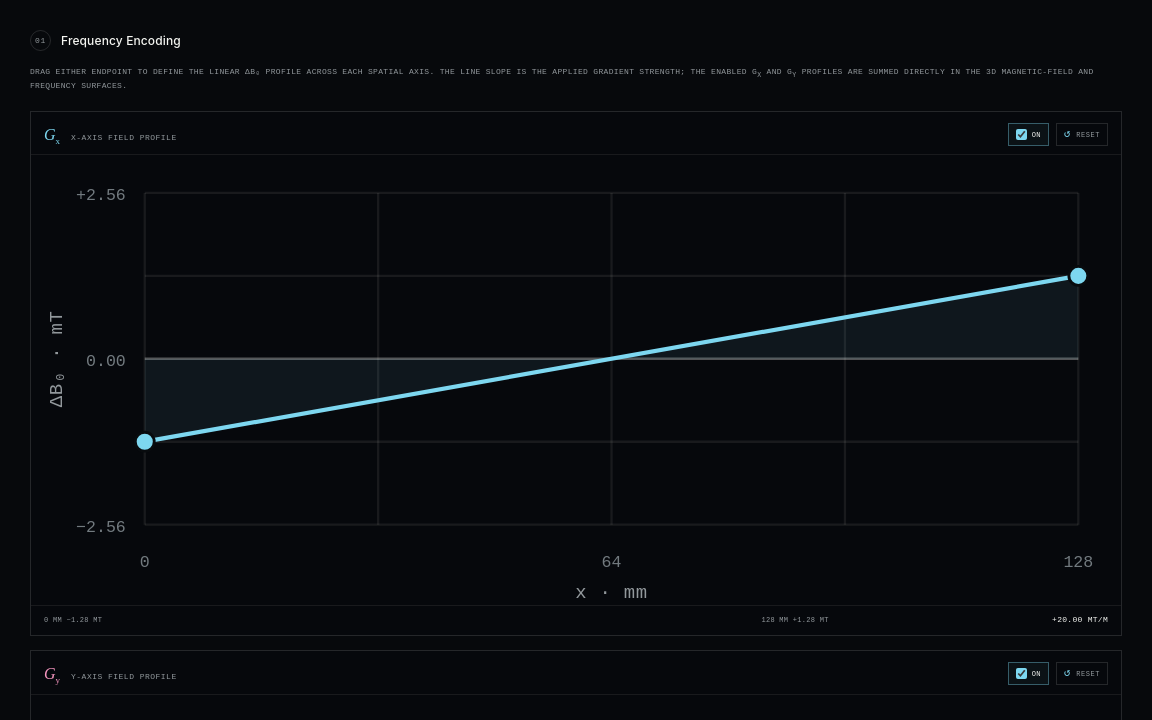
Test: GradientEncodingExperimentPanel › disables an axis contribution without discarding its profile
Click the checkbox named "Enable G x spatial gradient": x=1021, y=135 [1016,129,1027,140]
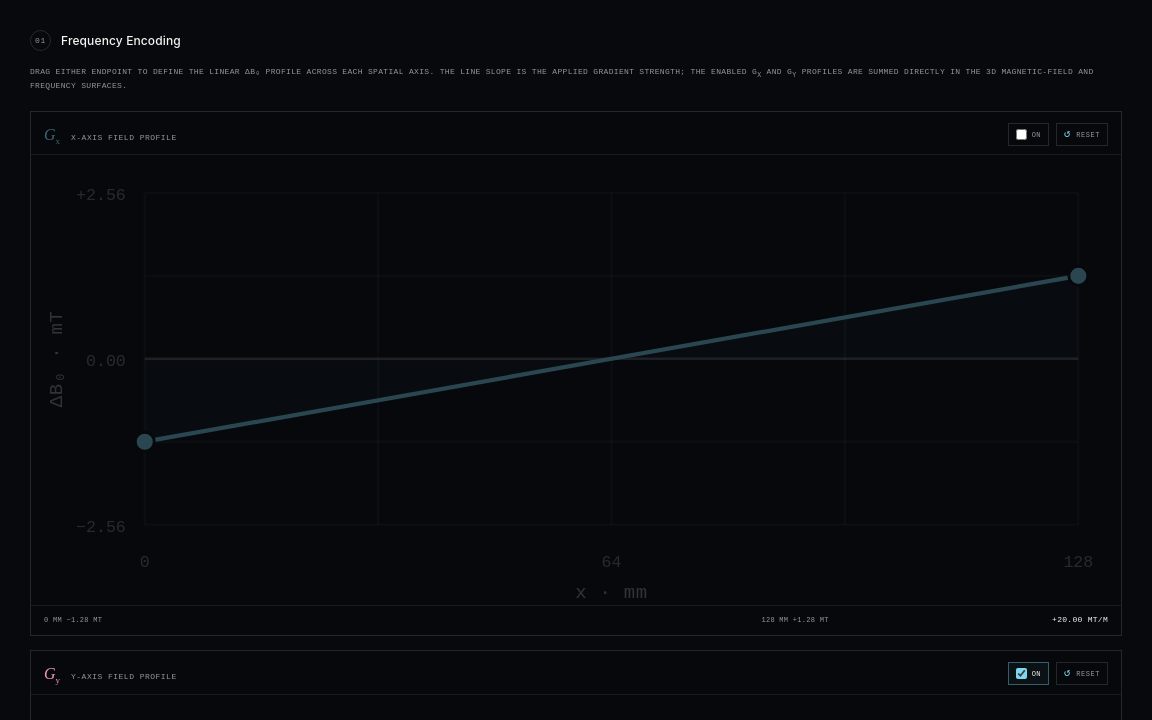
Check: the element named "G x spatial gradient editable line" has class "disabled"
Check: the checkbox named "Enable G x spatial gradient" is not checked
Click the checkbox named "Enable G x spatial gradient": x=1021, y=135 [1016,129,1027,140]
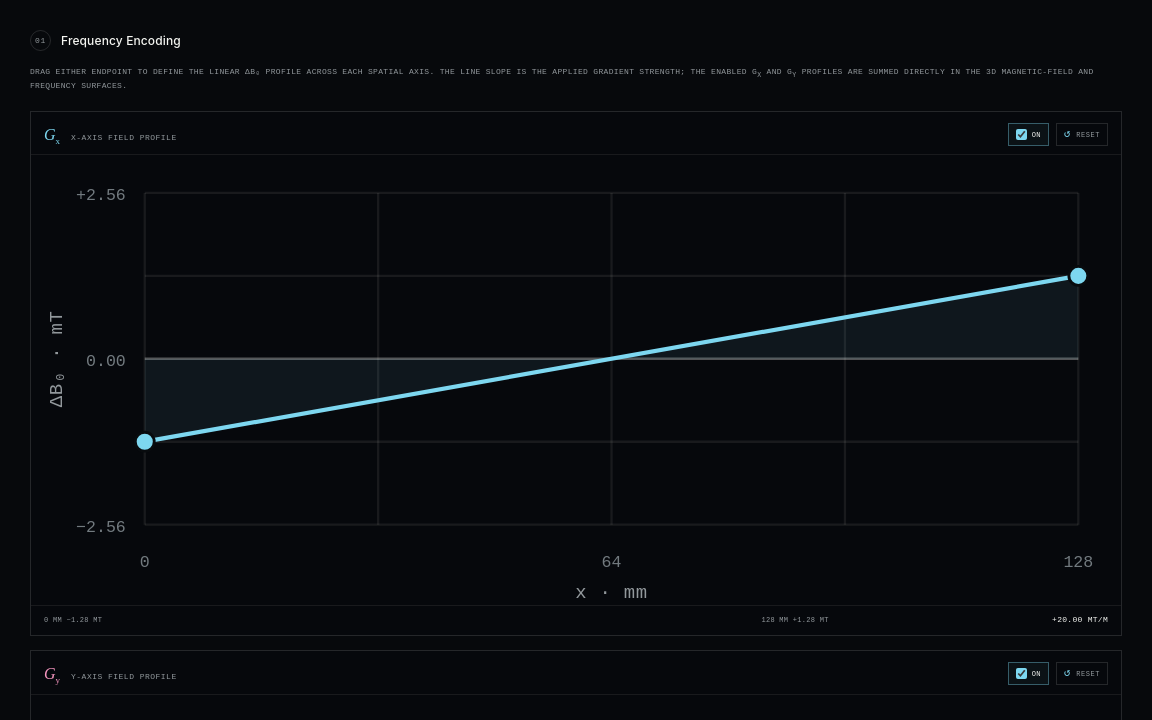
Check: the checkbox named "Enable G x spatial gradient" is checked, box [1016,129,1027,140]
